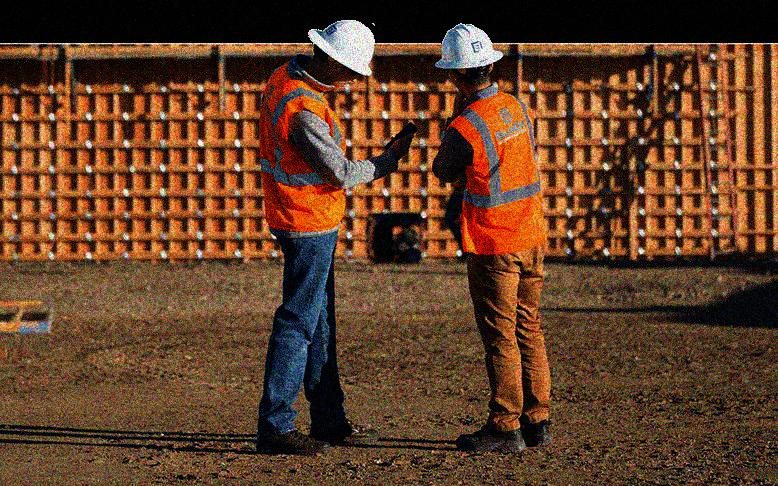helmet: (305, 17, 378, 93), (435, 22, 505, 92)
